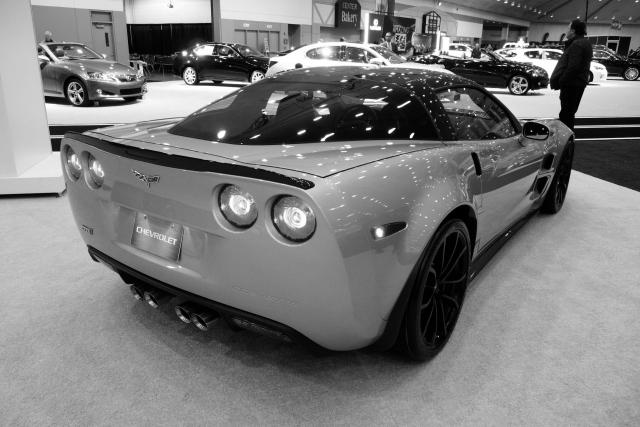car: (59, 62, 576, 367)
